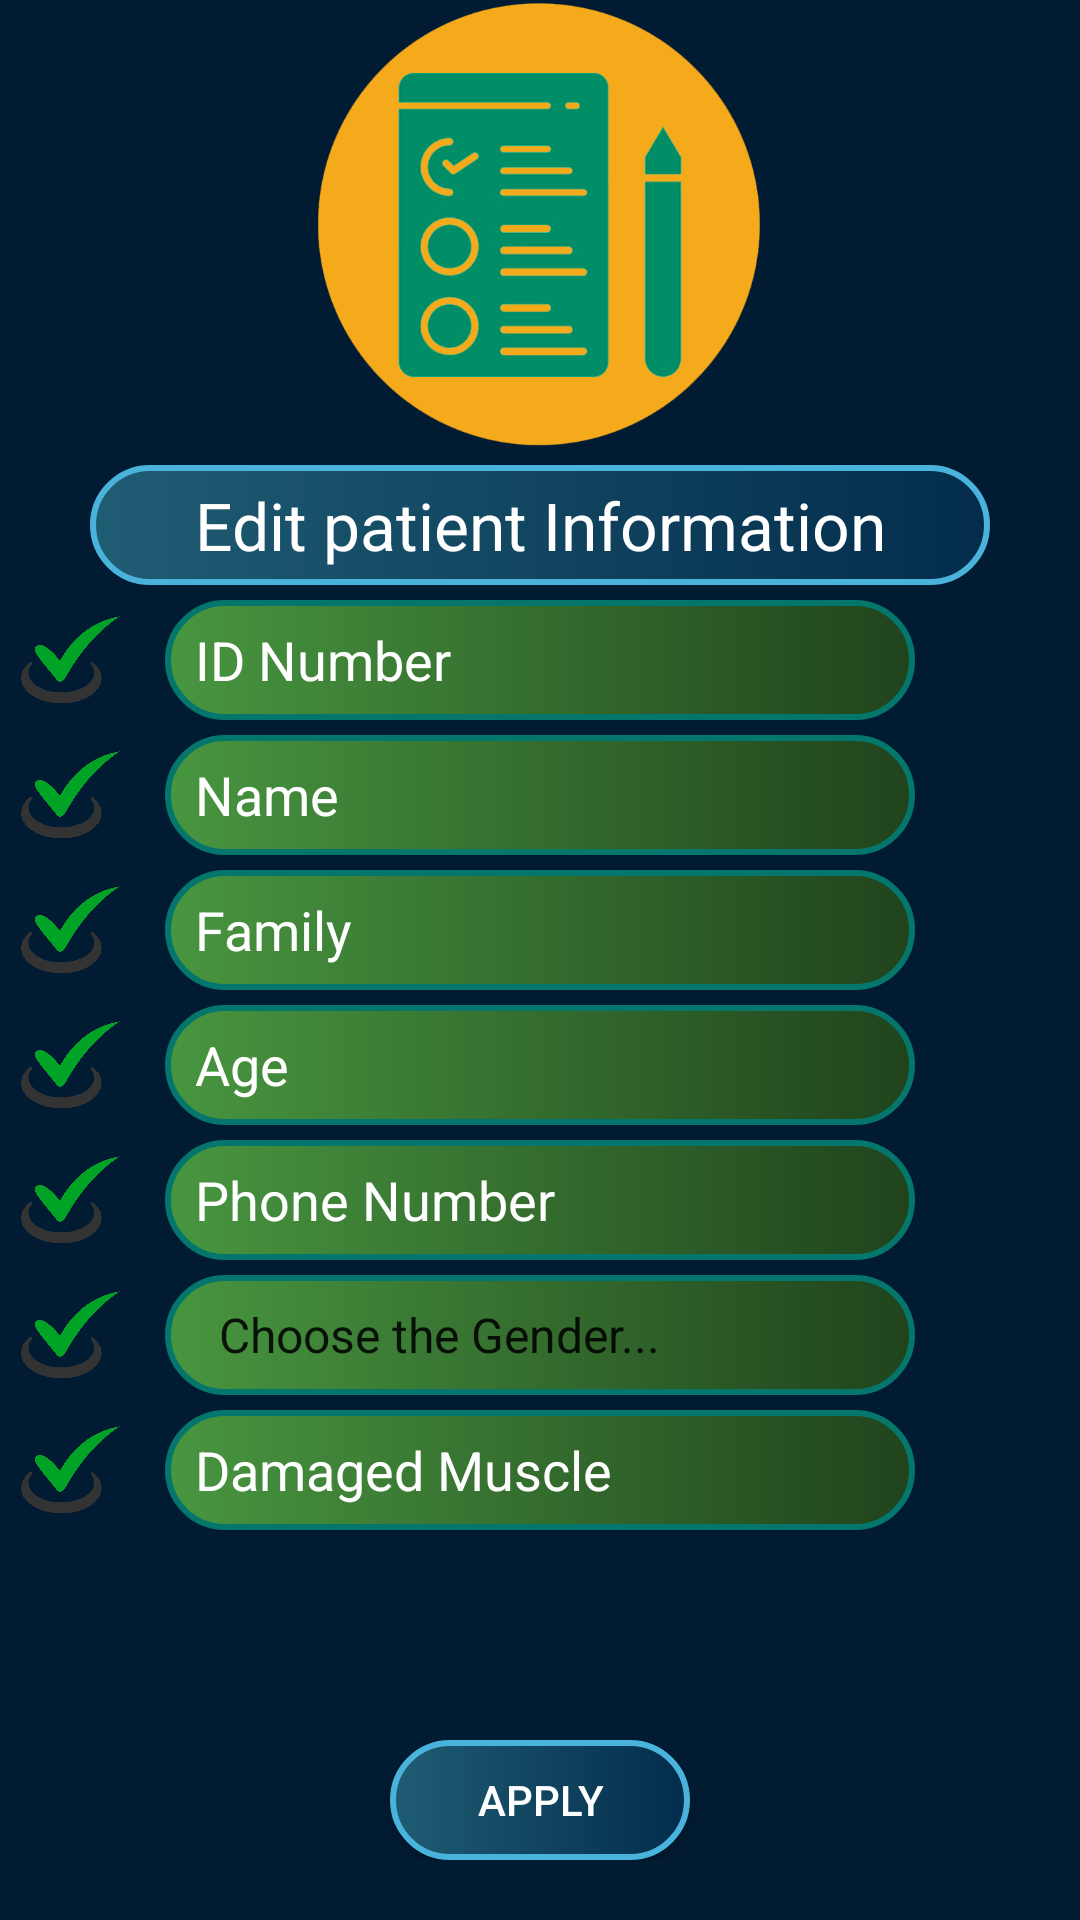

Point at icon controls on the screen. Image size 1080x1920, points as point (x, y).
correct: point (70, 659), point (70, 794), point (70, 929), point (70, 1064), point (70, 1199), point (70, 1334), point (70, 1469)
